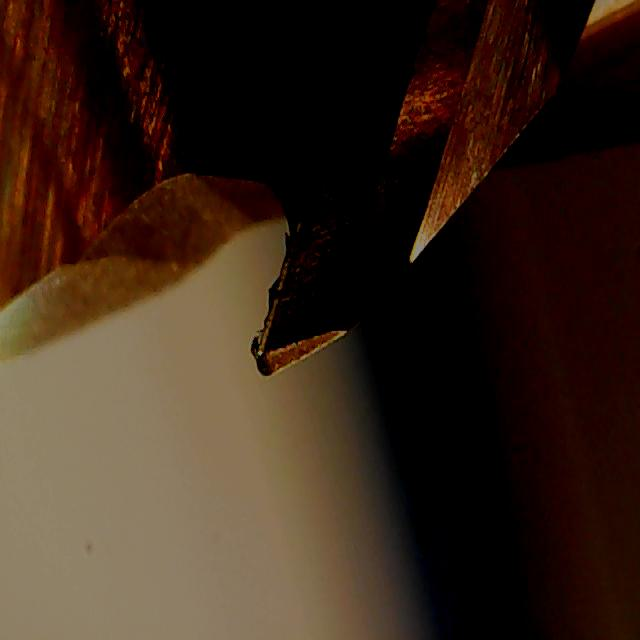Tool-wear-class-1: (244, 103, 432, 389)
